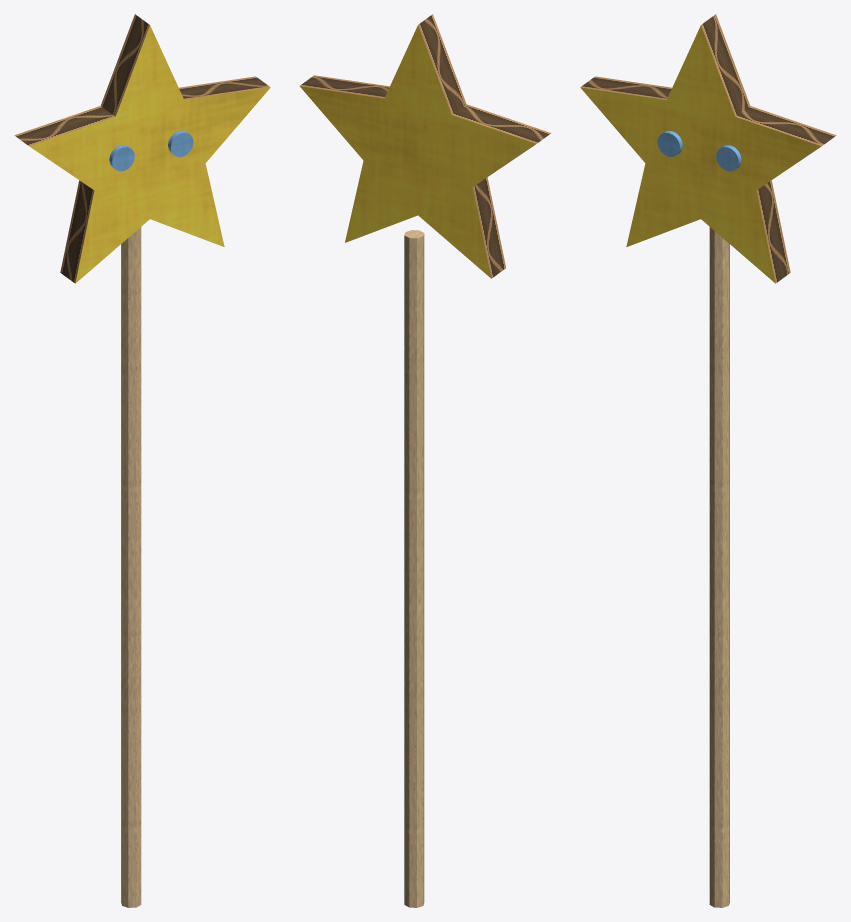
File: goal_star_0.gltf
3 views of the same model, side by side, from view 1: azimuth 30°, elevation 25°; view 2: azimuth 150°, elevation 25°; view 3: azimuth 330°, elevation 25° (orthographic).
Parts seen in each view (by area): view 1: goal_star_0; view 2: goal_star_0; view 3: goal_star_0.
Boxes of the visible parts, x1,y1,x2,y2 form: goal_star_0: (14, 14, 270, 907); goal_star_0: (299, 14, 551, 907); goal_star_0: (580, 14, 836, 907).
Bounding box in the file's own units: 0.7418 × 2.62 × 0.143.
Materials: 4 (4 with a texture image).
